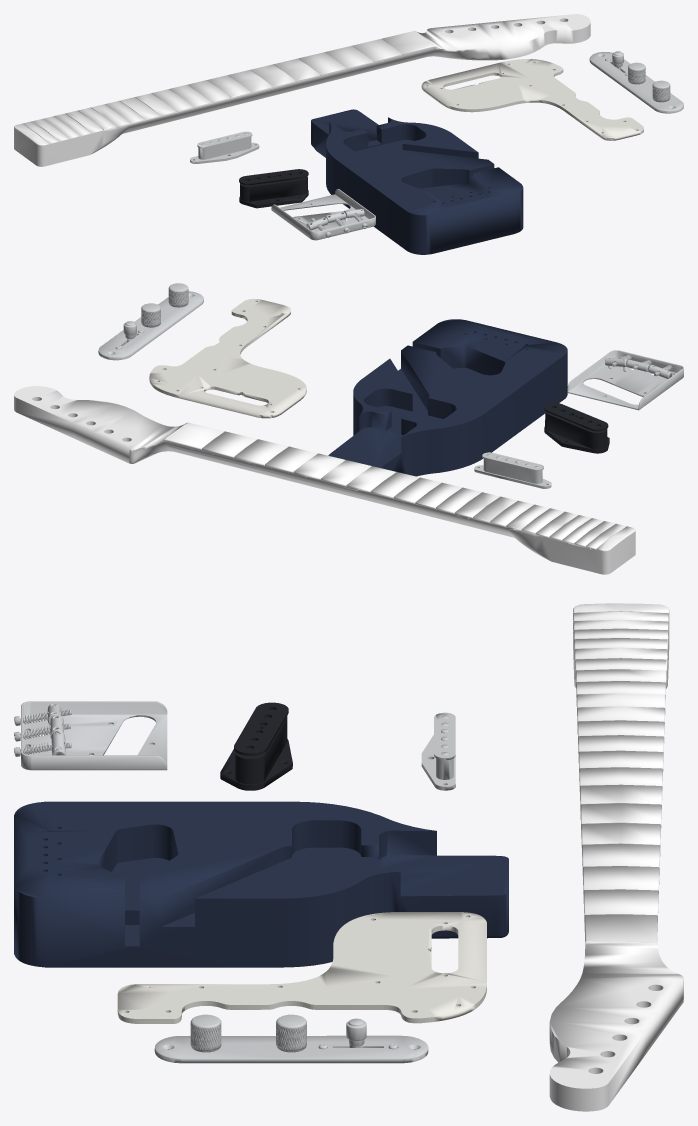
File: room.glb
3 renders of one model, top to bottom at view 1: azimuth 30°, elevation 25°; view 2: azimuth 150°, elevation 25°; view 3: azimuth 270°, elevation 25°, orthographic. The views are drawn at different scales.
Parts seen in each view (by area): view 1: Guitar education kit — original separated parts, desk layout; view 2: Guitar education kit — original separated parts, desk layout; view 3: Guitar education kit — original separated parts, desk layout.
Boxes of the visible parts, box(x1,y1,x2,y2) form: Guitar education kit — original separated parts, desk layout: box(14, 14, 683, 254); Guitar education kit — original separated parts, desk layout: box(14, 283, 683, 574); Guitar education kit — original separated parts, desk layout: box(14, 603, 683, 1111).
Bounding box in the file's own units: 2.8 × 0.293 × 1.69.
